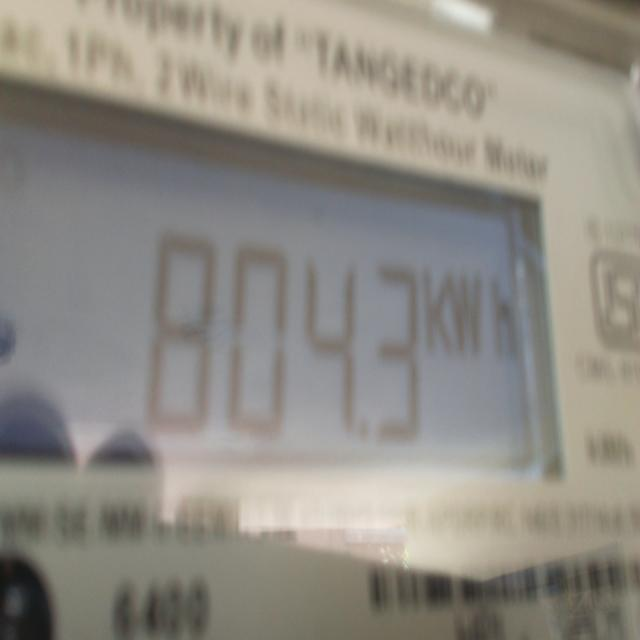display: (0, 74, 561, 476)
frame: (123, 204, 427, 456)
gauge: (0, 0, 640, 640)
